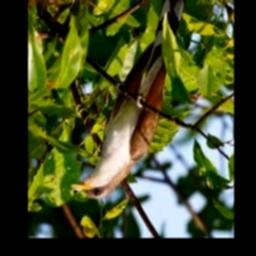Cuckoo: (71, 0, 188, 200)
